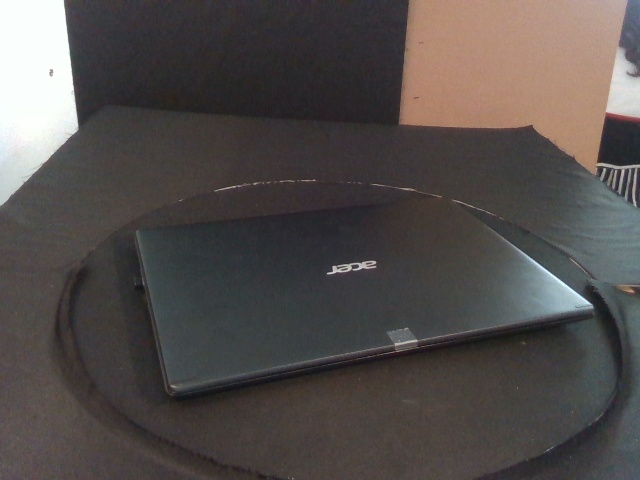laptop: (134, 196, 596, 401)
